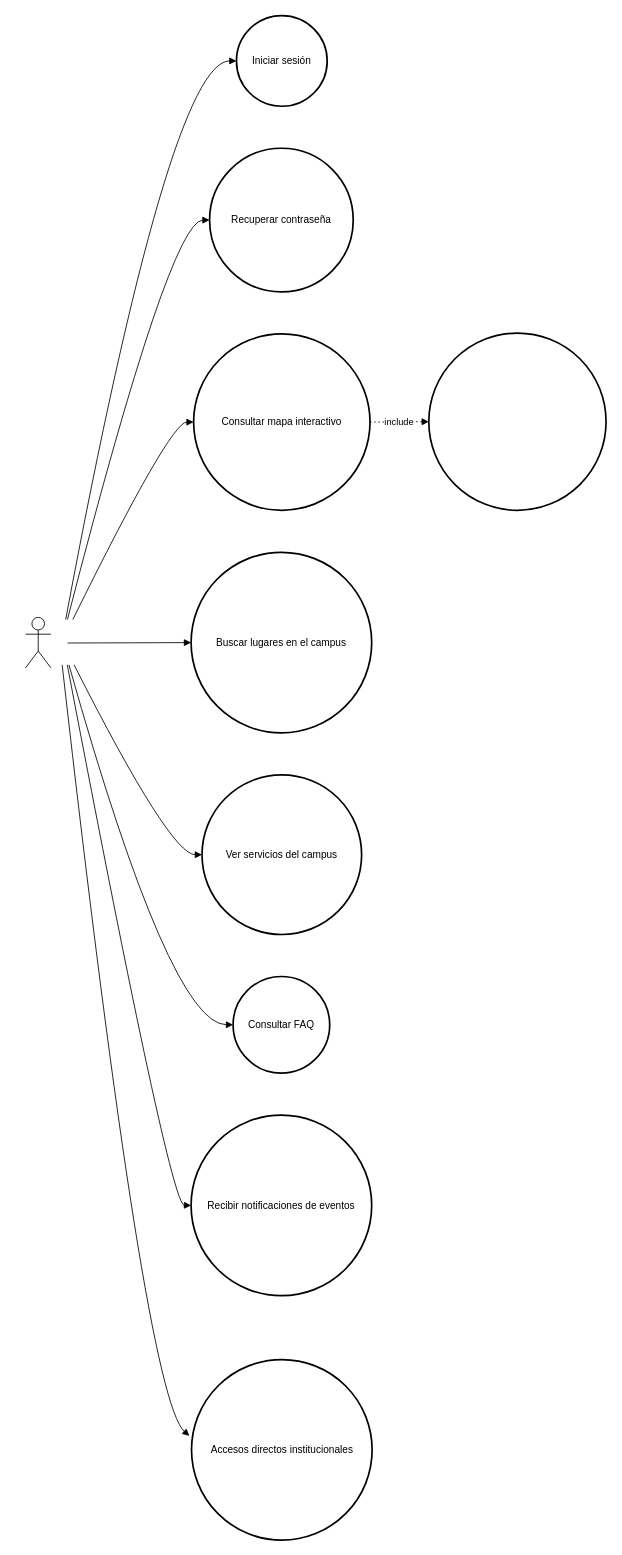
Image size: 622x1555. Some labels were removed from this diagram. Each missing label, with the box of its shape:
Estudiante: (25, 617, 51, 668)
Ver ubicaciones en el mapa: (428, 332, 606, 511)
